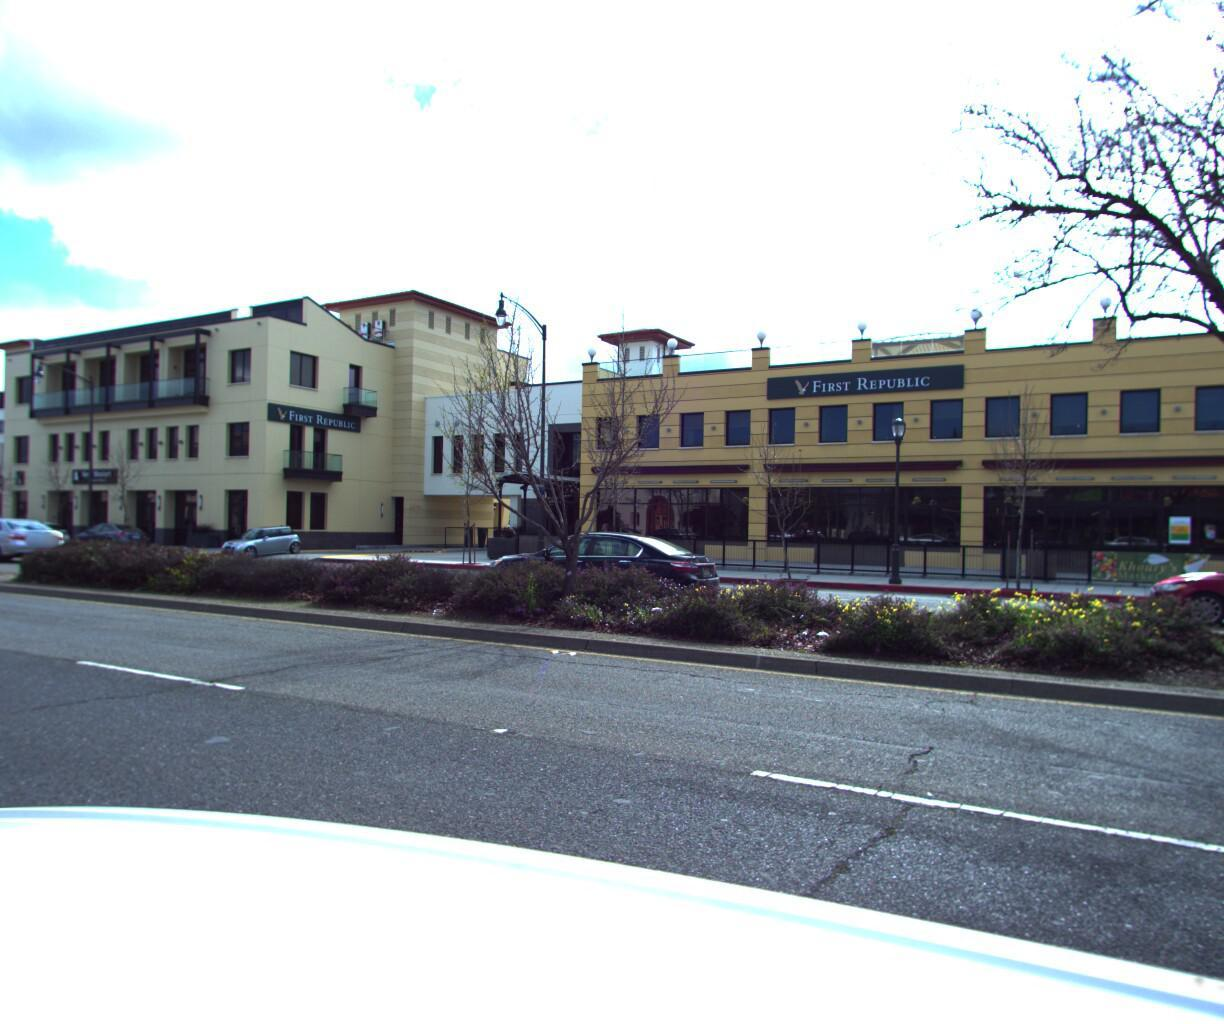car: (469, 530, 728, 631), (1150, 553, 1224, 658), (213, 527, 307, 563), (0, 522, 65, 573), (67, 528, 156, 559), (0, 525, 74, 556)
